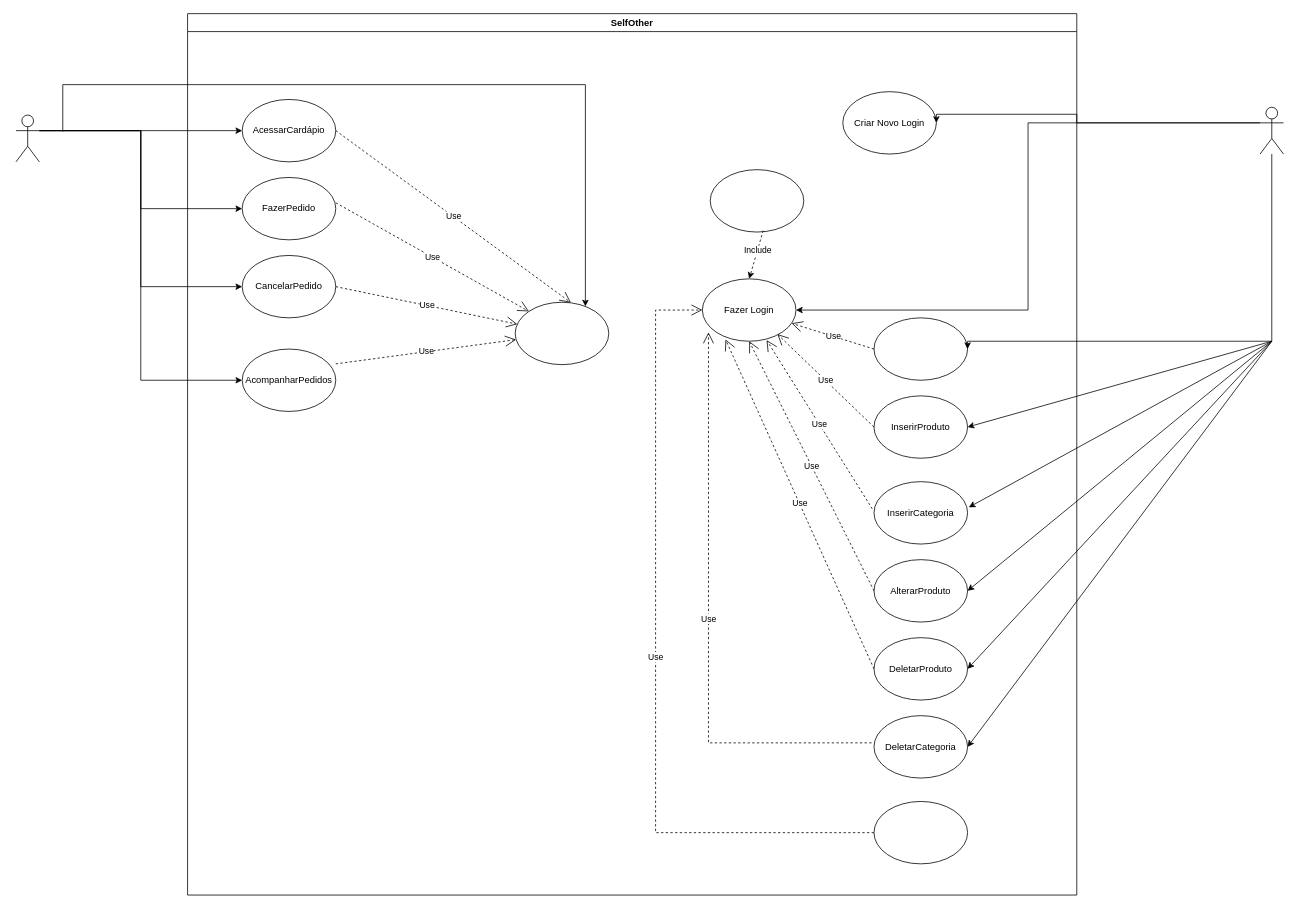
Image size: 1310x909. Some labels were removed from this diagram. Here are the shapes that lost their labels. From the top down, the centre of each, then its label:
(x=27, y=138): Cliente
(x=1271, y=130): Funcionario
(x=756, y=200): Verificar Acesso
(x=561, y=333): RealizarCadastro
(x=920, y=348): Alterar Mesa em MesaPessoa
(x=920, y=832): Alterar Fim Pedido
